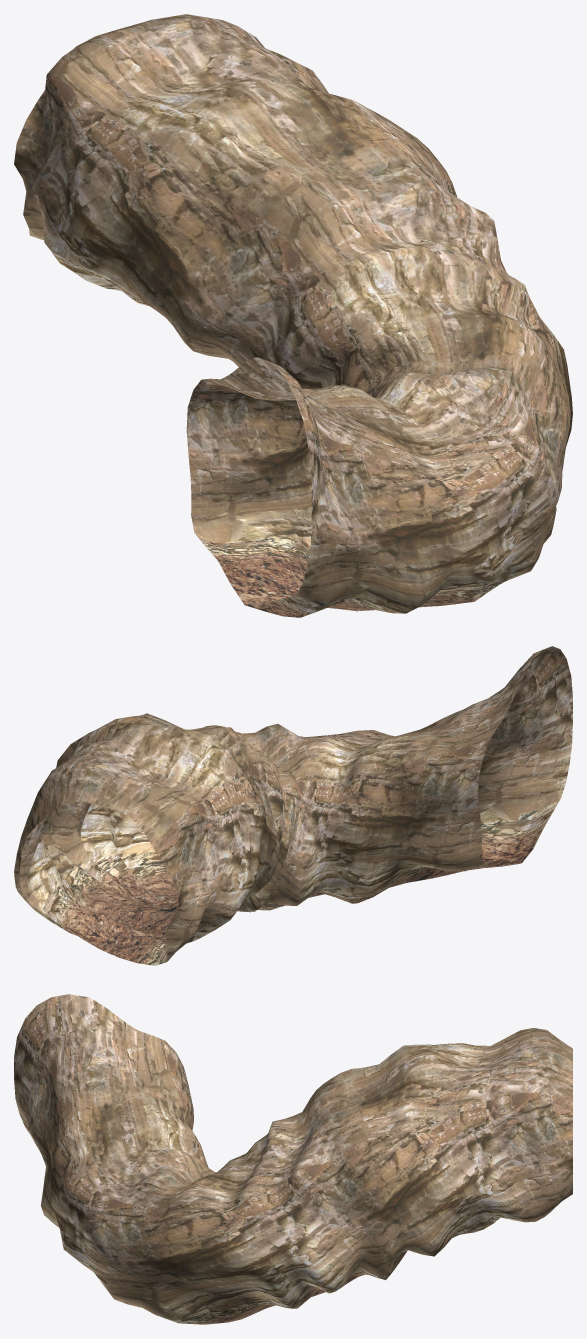
Rendered from thm_tato_cave_s01_r14_mesh_r14.fbx.
3 renders of one model, top to bottom at view 1: azimuth 30°, elevation 25°; view 2: azimuth 150°, elevation 25°; view 3: azimuth 270°, elevation 25°, orthographic. The views are drawn at different scales.
Parts seen in each view (by area): view 1: mesh_node; view 2: mesh_node; view 3: mesh_node.
Boxes of the visible parts, x1,y1,x2,y2 form: mesh_node: (14,14,572,617); mesh_node: (14,646,572,965); mesh_node: (14,994,572,1324).
Size of the model in its own units: 21.02 by 17.47 by 34.86.
